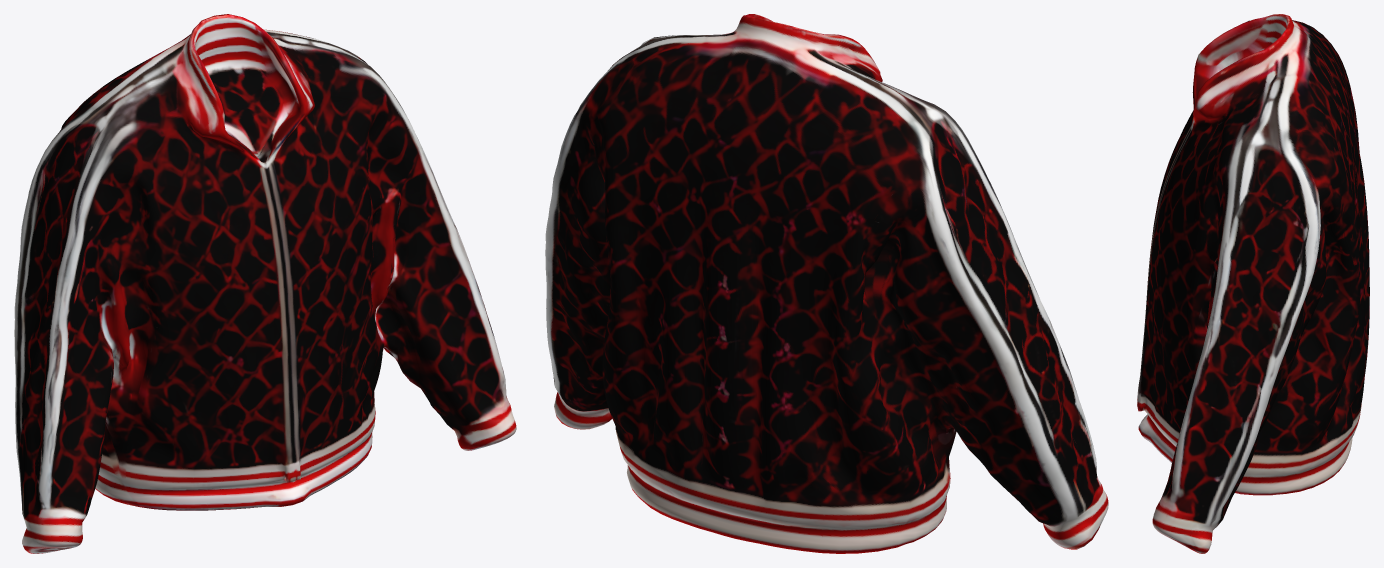
Rendered from base_basic_pbr.glb.
The picture shows the model from 3 angles, left to right: view 1: azimuth 30°, elevation 25°; view 2: azimuth 150°, elevation 25°; view 3: azimuth 270°, elevation 25°; orthographic projection. The views are drawn at different scales.
Parts seen in each view (by area): view 1: model; view 2: model; view 3: model.
Boxes of the visible parts, x1,y1,x2,y2 form: model: (14,14,516,553); model: (545,14,1108,553); model: (1137,14,1369,553).
Size of the model in its own units: 1.9 by 1.71 by 0.8394.
1 material, 1 textured.
